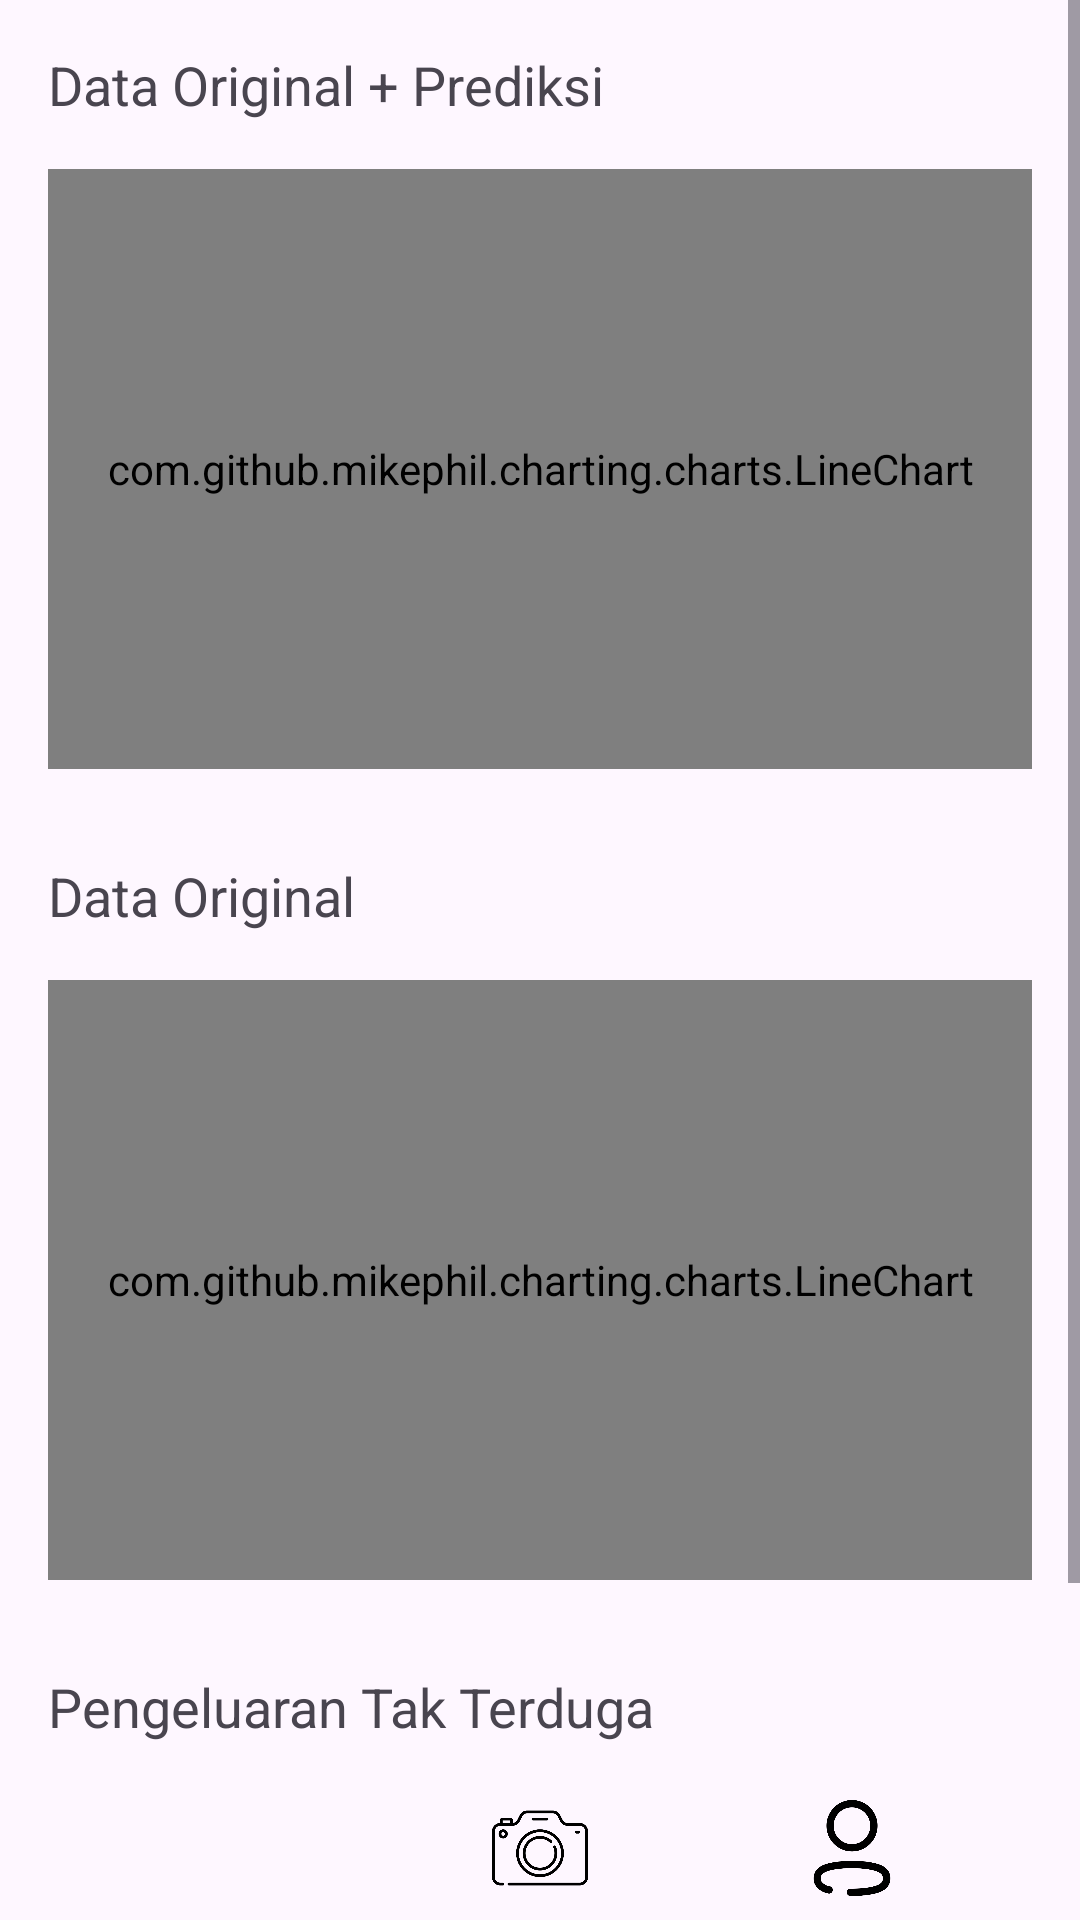

Point at icon controls on the screen. Image size 1080px x 1920px, points as point (x, y).
camera: point (540, 1848)
profilecandidate: point (852, 1848)
